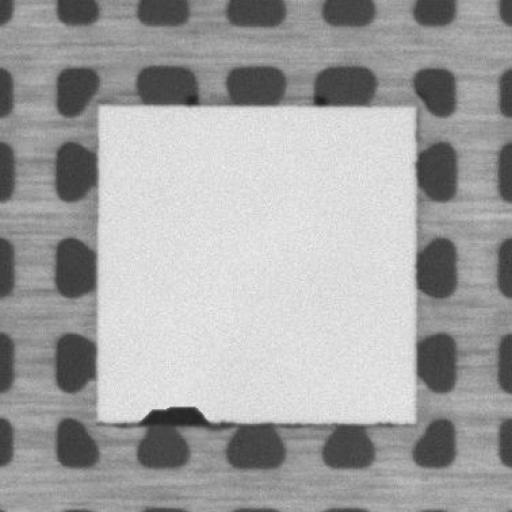DIE_BROKEN: (134, 401, 211, 427)
